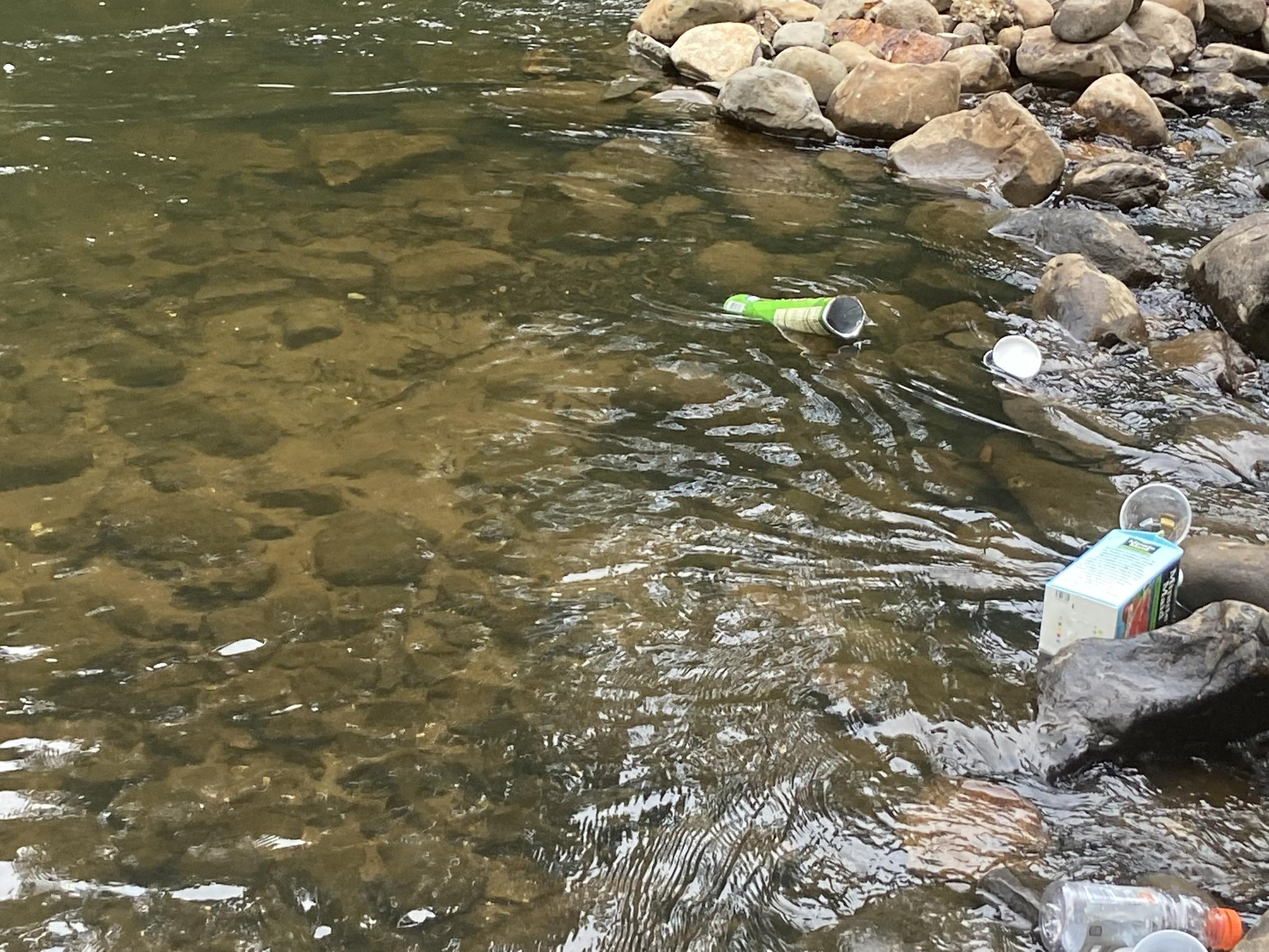cardboard: (1028, 516, 1198, 677)
metal: (713, 282, 883, 356)
paper: (966, 327, 1055, 392)
plastic: (1028, 867, 1254, 952), (1106, 471, 1204, 559), (1116, 922, 1217, 952)
